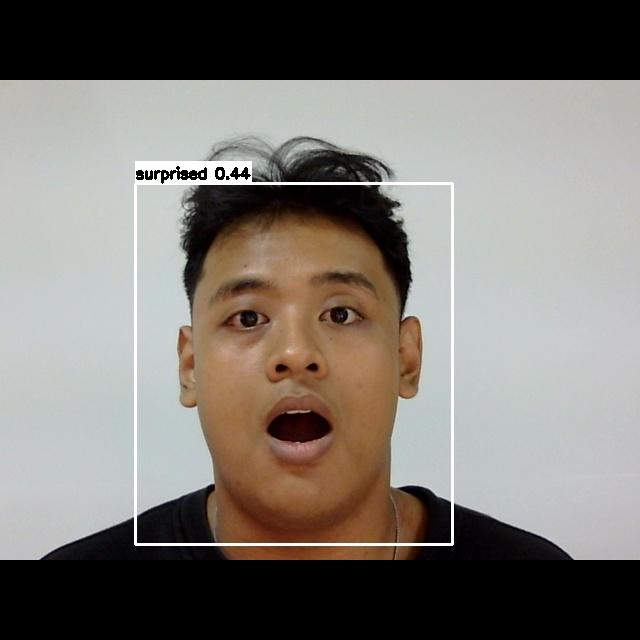Surprised: (186, 250, 411, 489)
